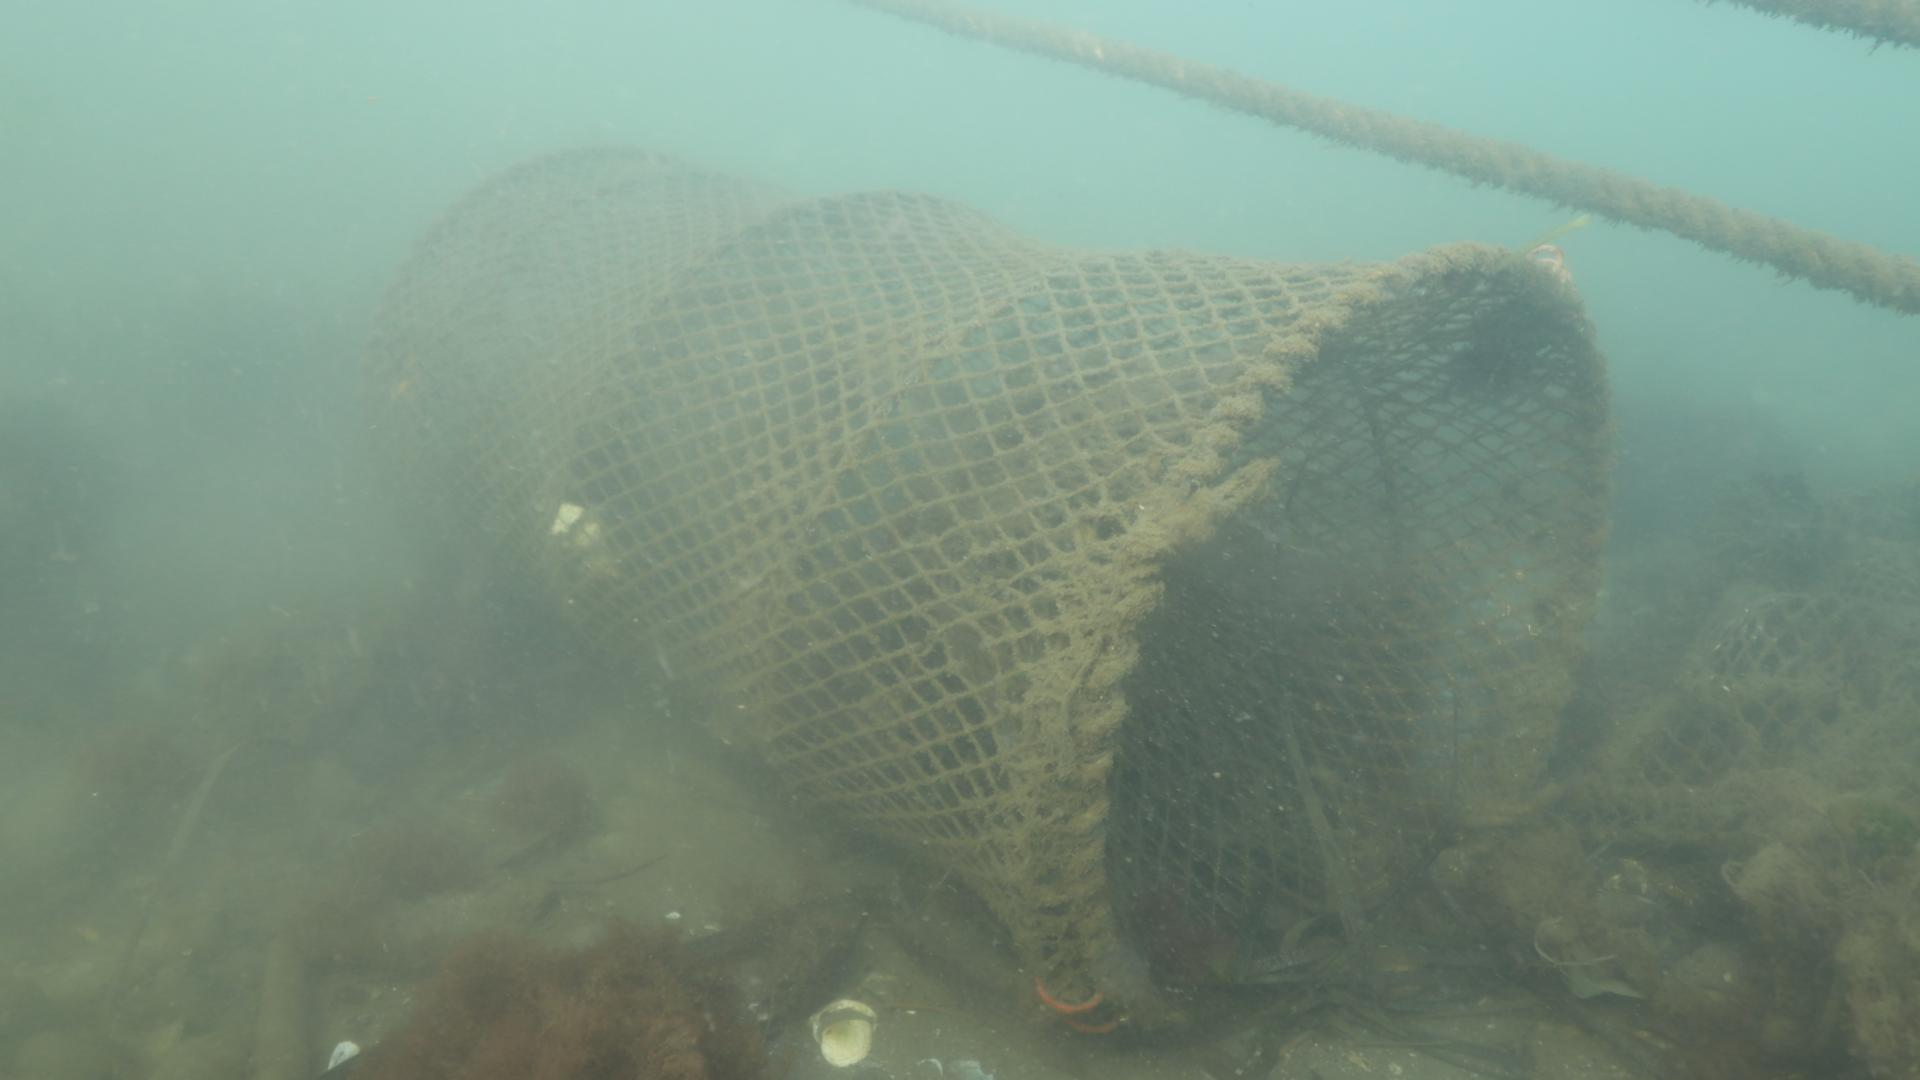fish net: (1629, 551, 1920, 822)
rope: (852, 0, 1920, 309)
spring fish trap: (371, 138, 1617, 1044)
